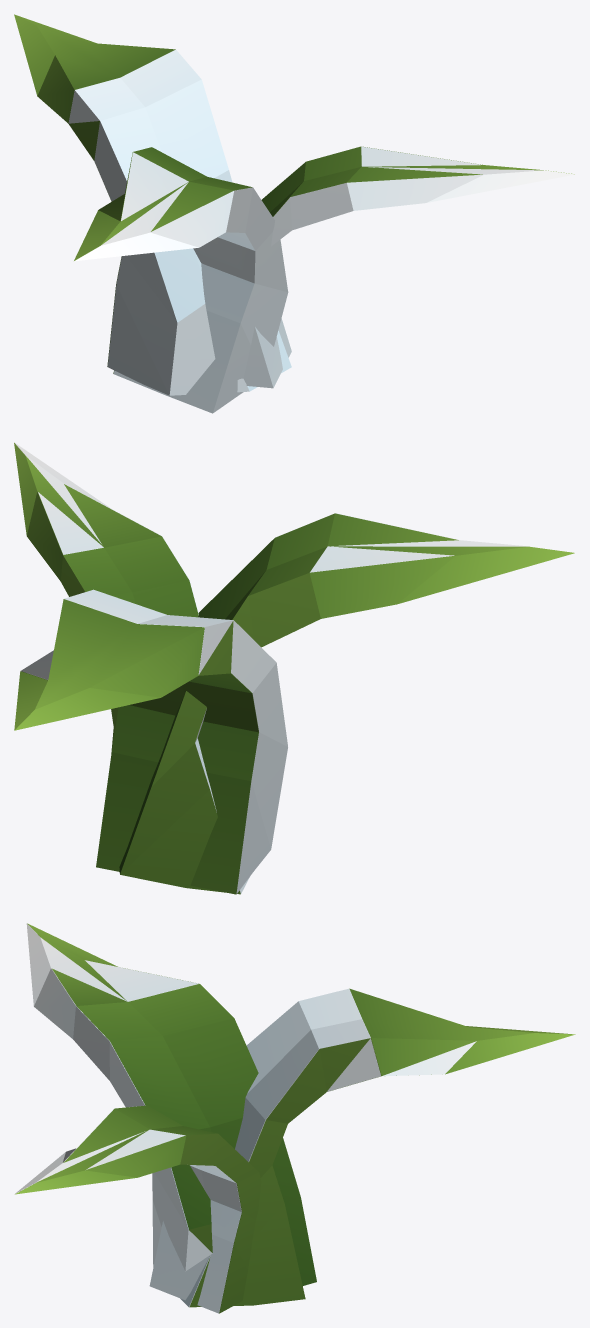
Rendered from herbe3.fbx.
The picture shows the model from 3 angles, top to bottom: view 1: azimuth 30°, elevation 25°; view 2: azimuth 150°, elevation 25°; view 3: azimuth 270°, elevation 25°; orthographic projection. The views are drawn at different scales.
Visible parts, largest first — view 1: Cube.009, Cube.004; view 2: Cube.004, Cube.009; view 3: Cube.004, Cube.009.
Boxes of the visible parts, <box> form: Cube.009: <box>68,49,575,413</box>; Cube.004: <box>14,14,574,373</box>; Cube.004: <box>14,443,574,894</box>; Cube.009: <box>14,442,575,893</box>; Cube.004: <box>15,923,575,1313</box>; Cube.009: <box>14,923,476,1313</box>.
Size of the model in its own units: 0.9202 by 0.4735 by 0.9036.
Materials: 2 (2 with a texture image).
